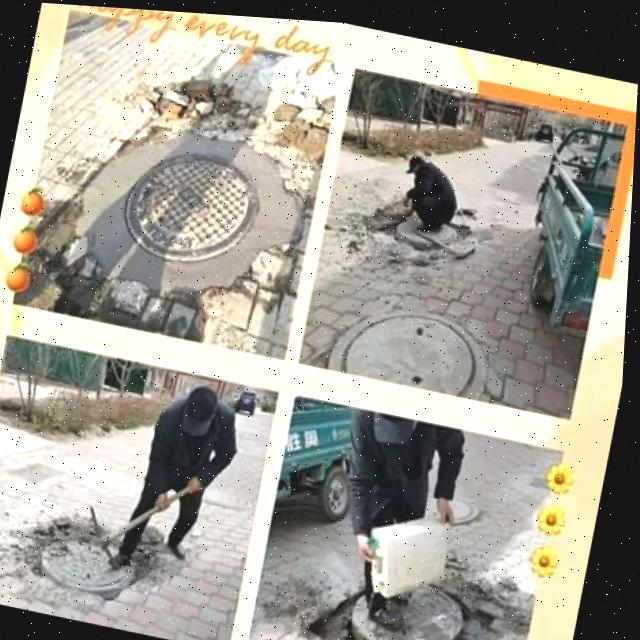manhole: (18, 503, 165, 609)
